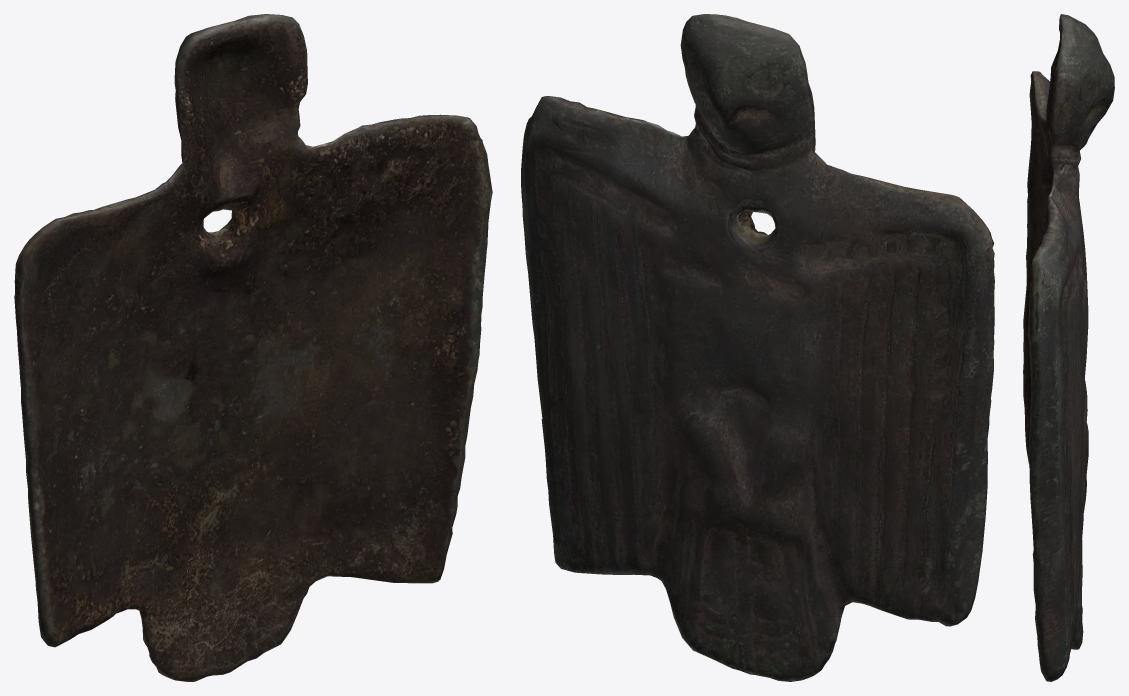
File: bird2_low_re-transformed.glb
3 views of the same model, side by side, from view 1: azimuth 30°, elevation 25°; view 2: azimuth 150°, elevation 25°; view 3: azimuth 270°, elevation 25° (orthographic). The views are drawn at different scales.
Parts seen in each view (by area): view 1: Model; view 2: Model; view 3: Model.
Part boxes in pixels (box(x1,y1,x2,y2)): Model: box(14, 14, 492, 681); Model: box(521, 14, 994, 681); Model: box(1023, 14, 1114, 681).
Bounding box in the file's own units: 0.9551 × 1.25 × 0.1701.
1 material, 1 textured.
